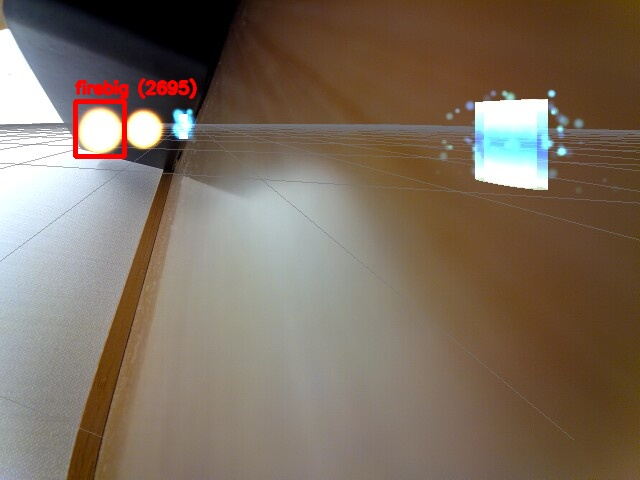firebig: (75, 101, 124, 156)
